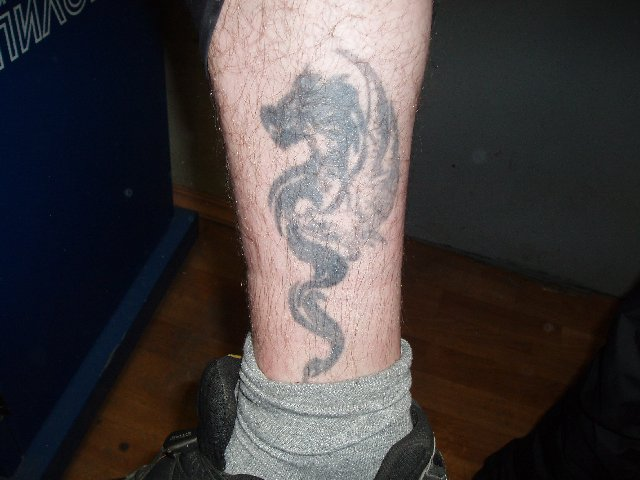tatu6_drakon: (230, 27, 406, 382)
